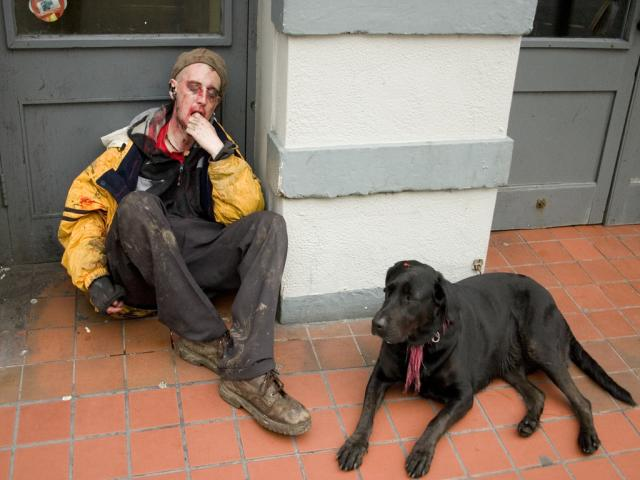Dog: (335, 260, 639, 479)
